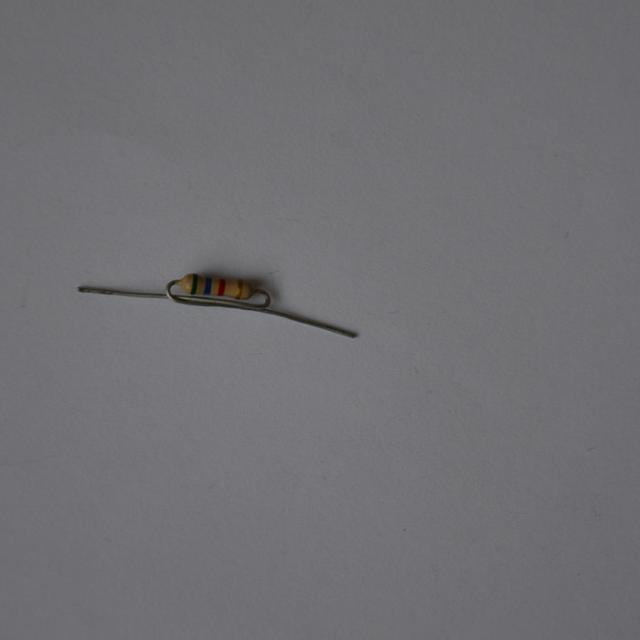blue: (204, 277, 212, 293)
gold: (237, 280, 244, 296)
green: (192, 274, 198, 293)
red: (218, 279, 224, 294)
resistor: (177, 266, 257, 306)
